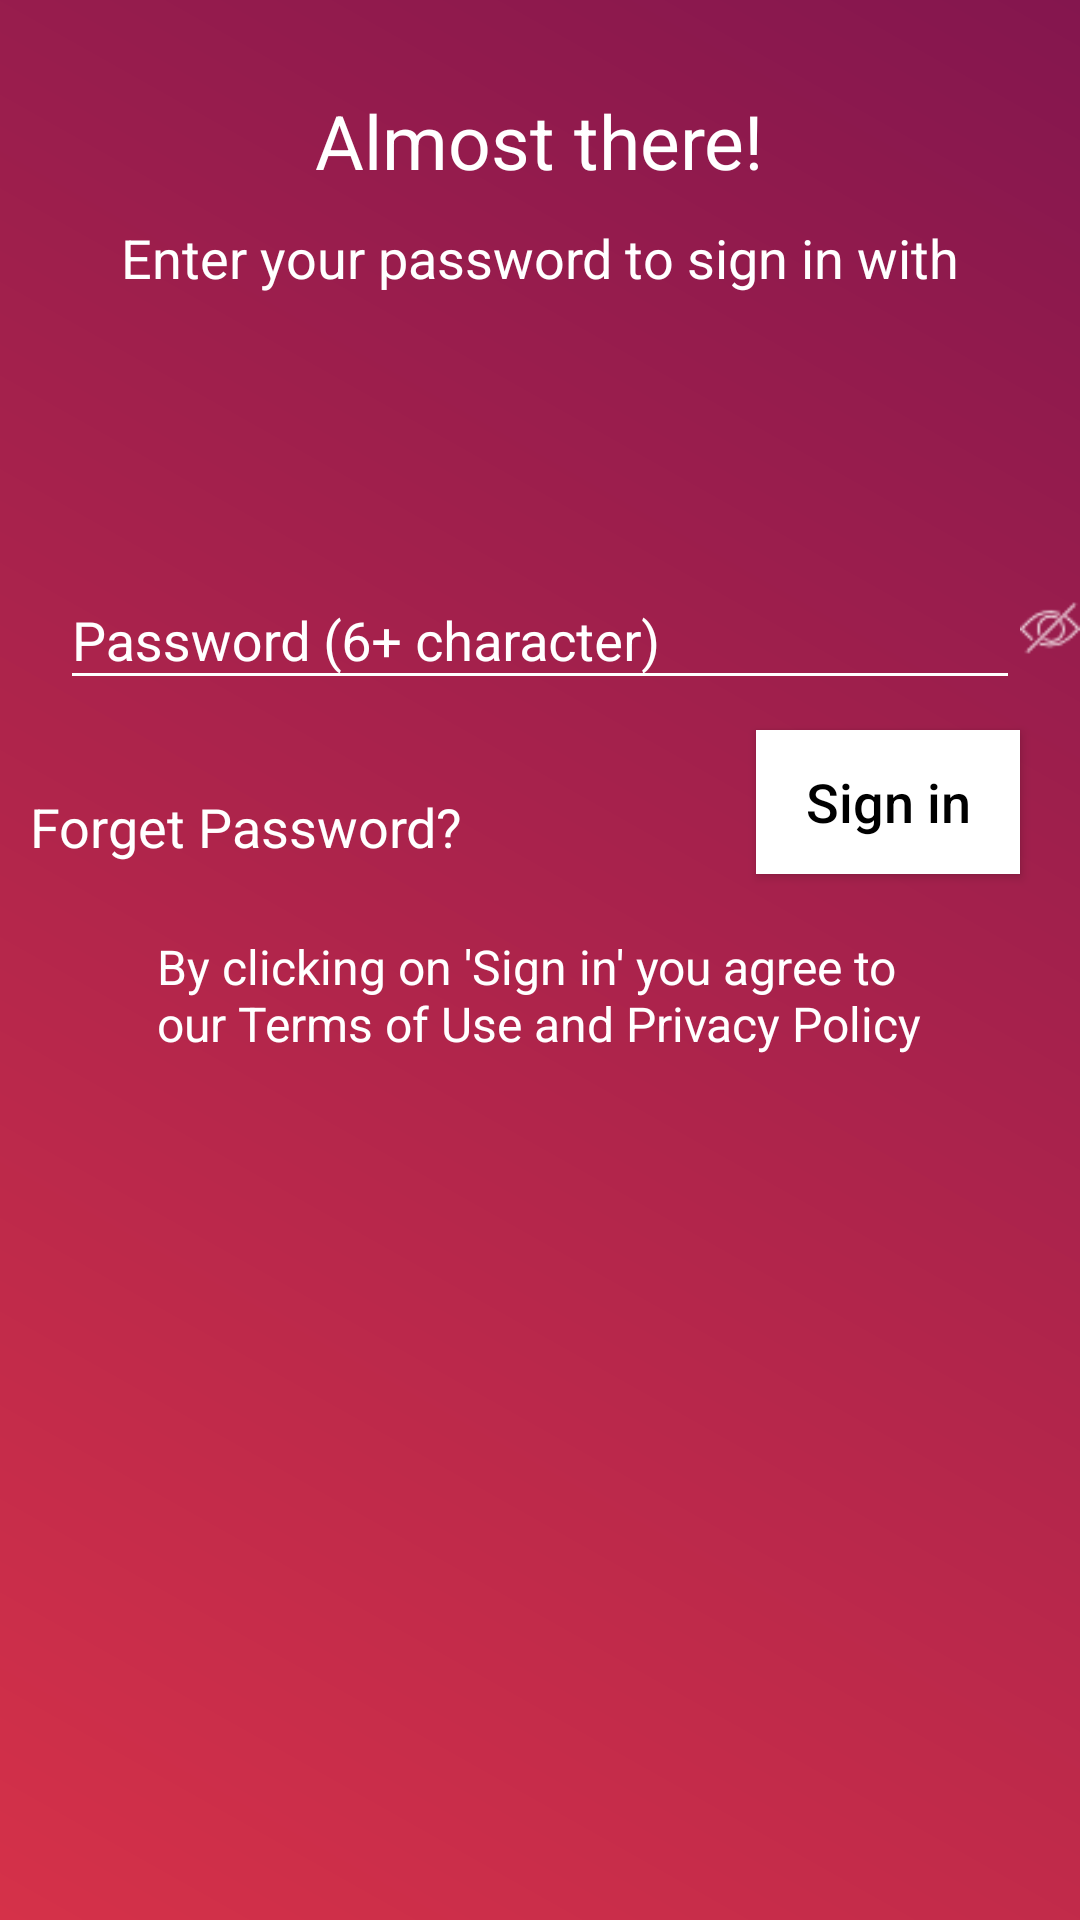

Screen size 1080px×1920px. Icon name, then its box in pixels as detection(x1, y1, x2, y2):
hide: detection(1020, 602, 1080, 654)
